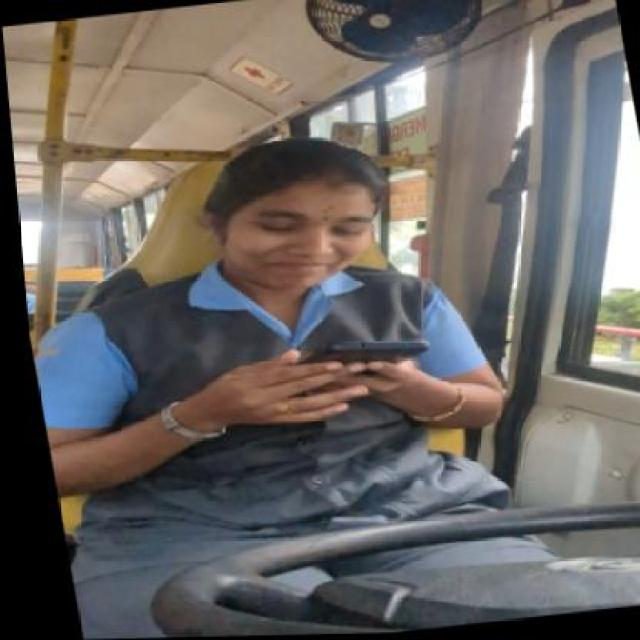Inattentive: (207, 138, 386, 292)
